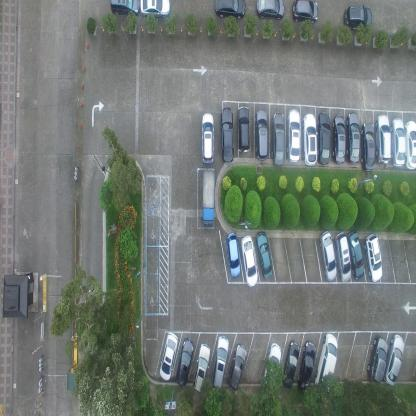car: (314, 332, 337, 389), (382, 333, 404, 387), (260, 342, 281, 394), (211, 334, 230, 389), (366, 336, 387, 385), (159, 329, 178, 382), (296, 342, 316, 392), (346, 228, 364, 280), (286, 106, 302, 164), (364, 233, 382, 284), (318, 231, 336, 282), (227, 341, 246, 389), (201, 168, 216, 228), (192, 342, 210, 392), (240, 234, 257, 286), (281, 339, 299, 388), (334, 231, 351, 281), (390, 116, 406, 168), (376, 114, 392, 166), (360, 122, 376, 174), (176, 336, 193, 384), (220, 106, 234, 164), (343, 2, 372, 29), (225, 230, 242, 276), (346, 110, 360, 165), (200, 110, 214, 165), (256, 231, 272, 279), (317, 108, 330, 166), (302, 112, 316, 165), (254, 108, 268, 161), (273, 110, 285, 166), (214, 0, 246, 21), (332, 113, 345, 164), (293, 0, 320, 24), (139, 0, 170, 20), (404, 120, 416, 171), (237, 105, 249, 155), (256, 1, 286, 20), (110, 0, 140, 19)
